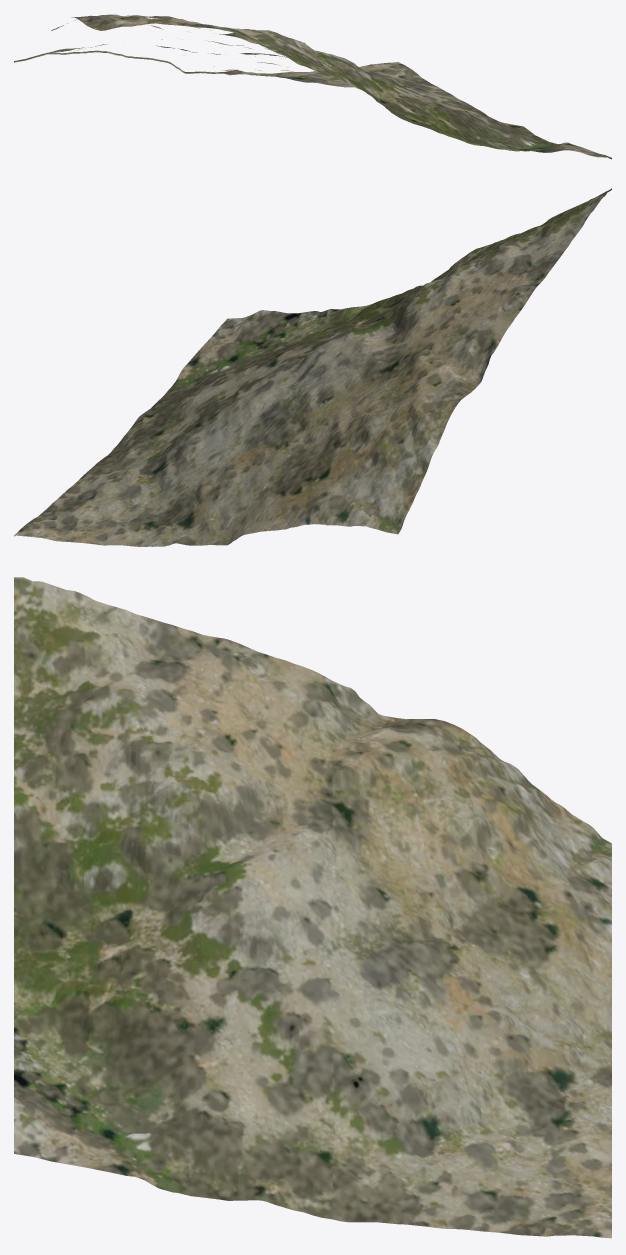
3 renders of one model, top to bottom at view 1: azimuth 30°, elevation 25°; view 2: azimuth 150°, elevation 25°; view 3: azimuth 270°, elevation 25°, orthographic. The views are drawn at different scales.
Size of the model in its own units: 250 by 178 by 241.
Materials: 1 (1 with a texture image).
